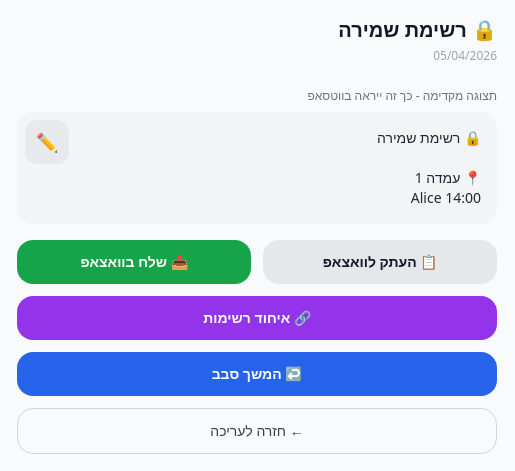
it: Short-list back navigation fix › back button works when opening short-list schedule from history
The image size is (515, 471).
Check: the button "🔒 רשימת שמירה" is shown, box [338,16,497,44]
Note: Click back button
Click the button "← חזרה לעריכה" at (257, 431), box [17,408,497,454]
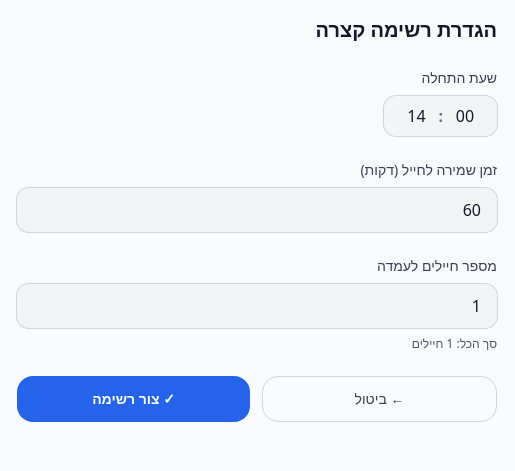
Check: the heading "הגדרת רשימה קצרה" is shown, box [316,16,497,43]
